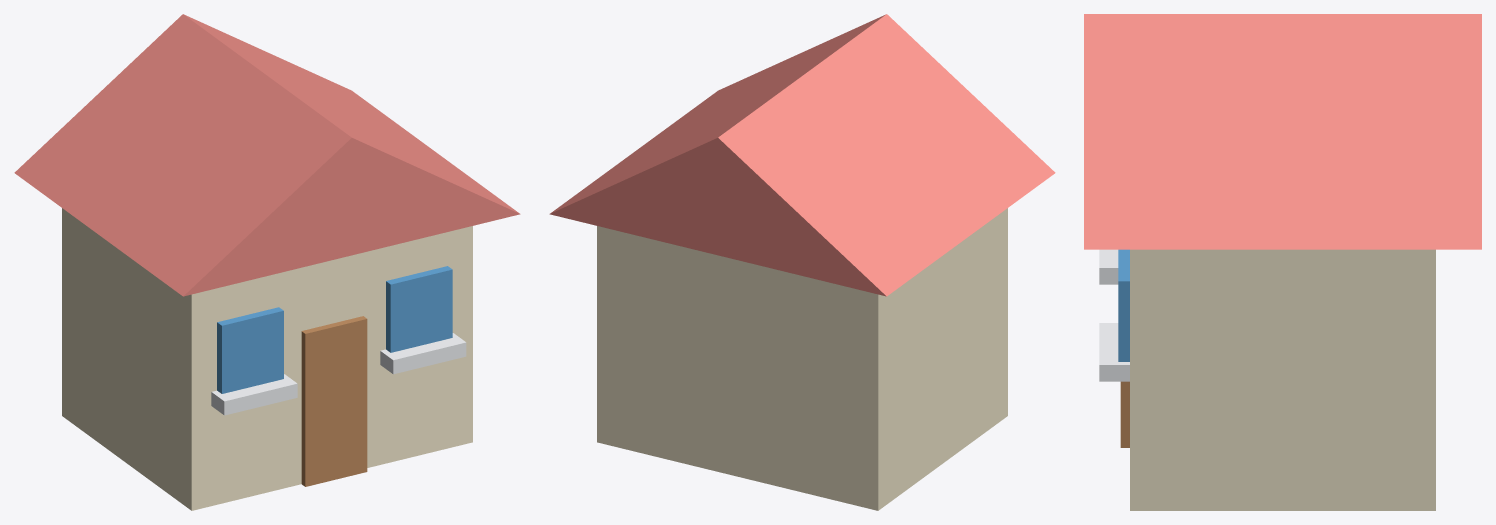
The model's file is village_house.glb.
3 views of the same model, side by side, from view 1: azimuth 30°, elevation 25°; view 2: azimuth 150°, elevation 25°; view 3: azimuth 270°, elevation 25° (orthographic). The views are drawn at different scales.
Visible parts, largest first — view 1: village_house; view 2: village_house; view 3: village_house.
Part boxes in pixels (x1,y1,x2,y2): village_house: [14, 14, 520, 510]; village_house: [549, 14, 1055, 510]; village_house: [1084, 14, 1481, 510].
Bounding box in the file's own units: 3 × 3 × 2.6.
